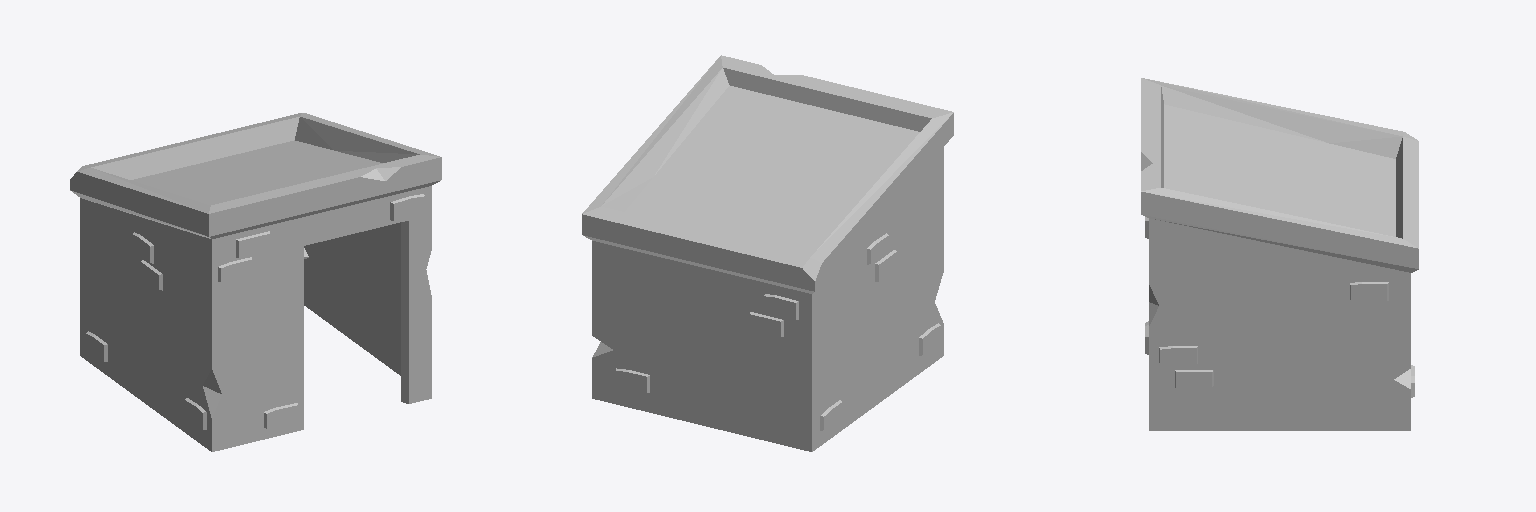
Rendered from Sortida Terrat.obj.
3 renders of one model, left to right at view 1: azimuth 30°, elevation 25°; view 2: azimuth 150°, elevation 25°; view 3: azimuth 270°, elevation 25°, orthographic.
Parts seen in each view (by area): view 1: unknown; view 2: unknown; view 3: unknown.
Boxes of the visible parts, x1,y1,x2,y2 form: unknown: [70, 113, 441, 451]; unknown: [582, 55, 953, 451]; unknown: [1141, 78, 1418, 430].
Bounding box in the file's own units: 2.76 × 2.74 × 2.85.